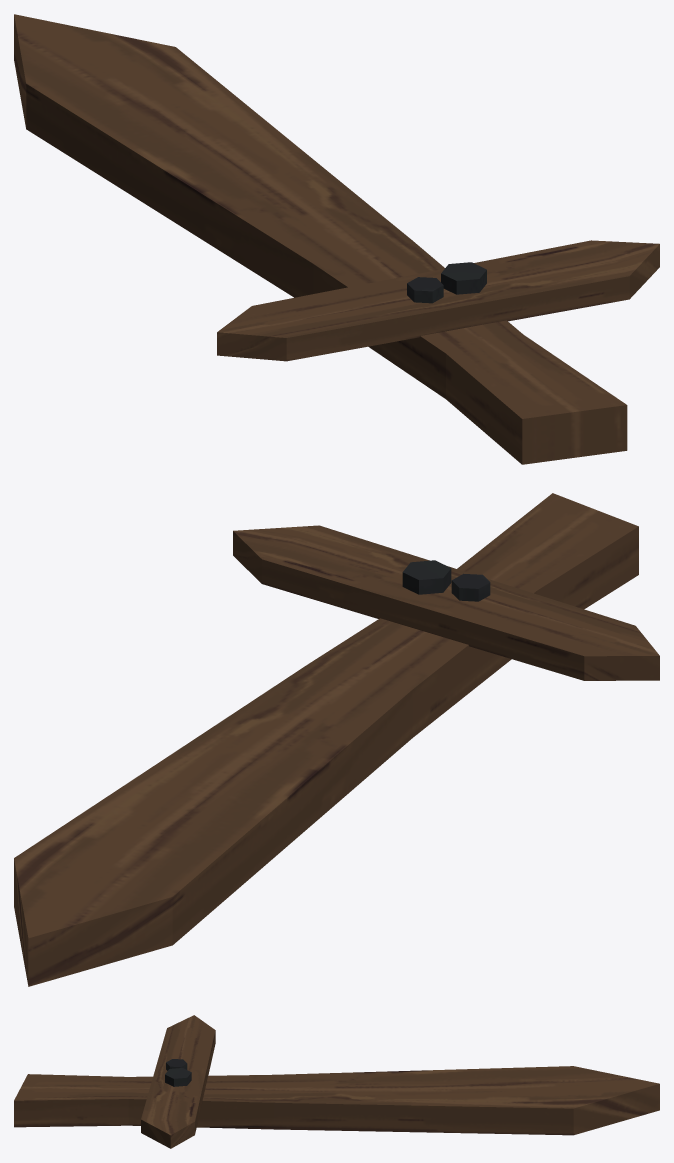
Rendered from SM_PROP_trainingdummy_sword_battle.fbx.
3 renders of one model, top to bottom at view 1: azimuth 30°, elevation 25°; view 2: azimuth 150°, elevation 25°; view 3: azimuth 270°, elevation 25°, orthographic. The views are drawn at different scales.
Parts seen in each view (by area): view 1: SM_PROP_trainingdummy_sword_battle; view 2: SM_PROP_trainingdummy_sword_battle; view 3: SM_PROP_trainingdummy_sword_battle.
Boxes of the visible parts, x1,y1,x2,y2 form: SM_PROP_trainingdummy_sword_battle: [14, 14, 659, 464]; SM_PROP_trainingdummy_sword_battle: [14, 493, 659, 986]; SM_PROP_trainingdummy_sword_battle: [14, 1015, 659, 1148].
Size of the model in its own units: 31.18 by 5.75 by 70.73.
